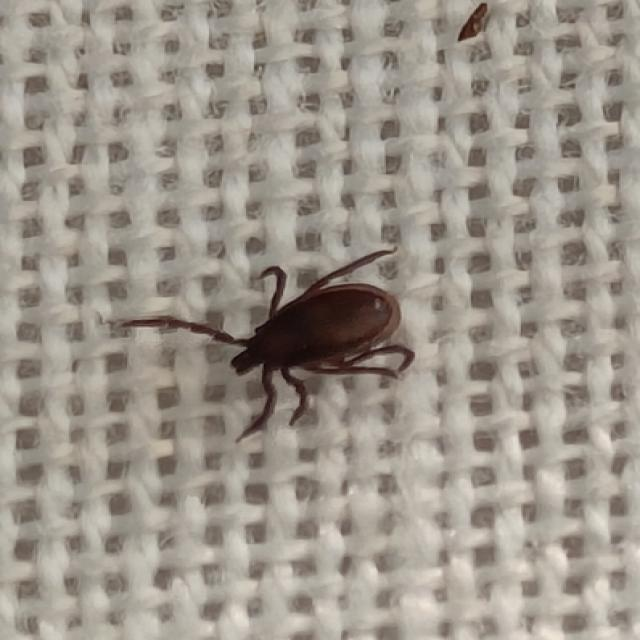Ixodes Ricinus-M: (121, 251, 416, 442)
